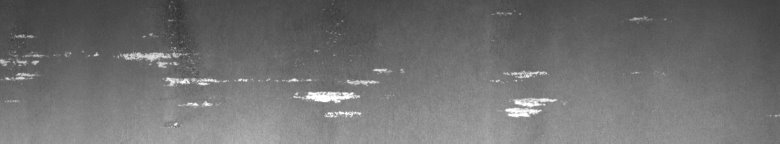kb: (4, 4, 405, 128)
